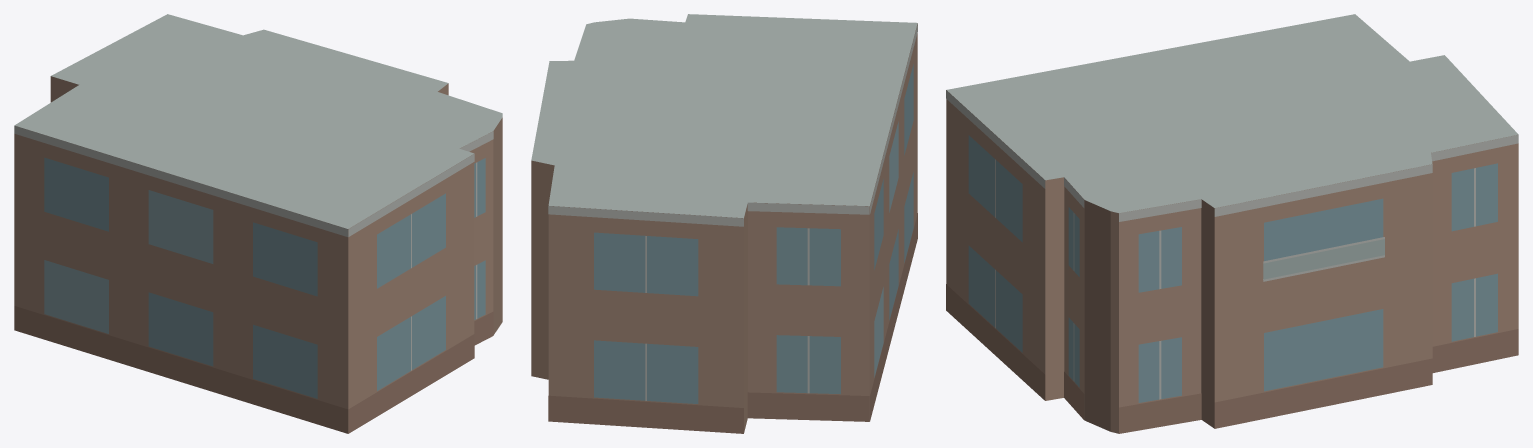
The model's file is survey-upis-32538473.glb.
3 views of the same model, side by side, from view 1: azimuth 30°, elevation 25°; view 2: azimuth 150°, elevation 25°; view 3: azimuth 270°, elevation 25° (orthographic). The views are drawn at different scales.
Parts seen in each view (by area): view 1: survey-upis-32538473.tmp; view 2: survey-upis-32538473.tmp; view 3: survey-upis-32538473.tmp.
Part boxes in pixels (<box>): survey-upis-32538473.tmp: <box>14,14,502,433</box>; survey-upis-32538473.tmp: <box>531,14,917,433</box>; survey-upis-32538473.tmp: <box>946,14,1518,433</box>.
Bounding box in the file's own units: 11.82 × 6.1 × 14.35.
